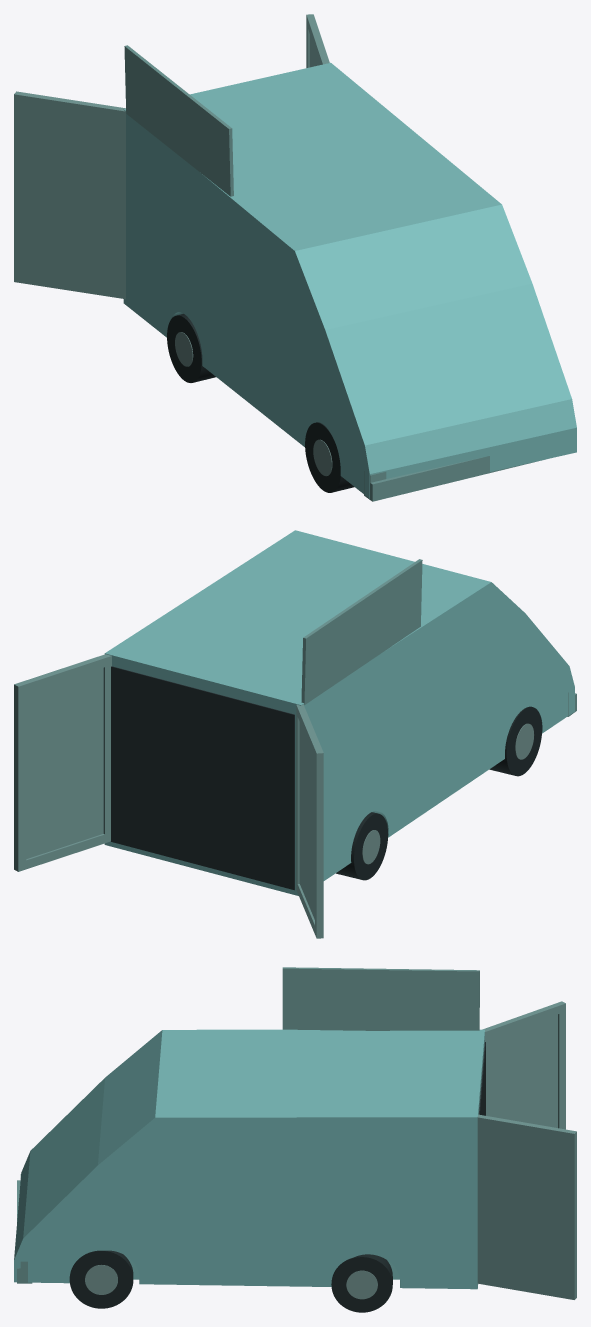
3 views of the same model, one above another, from view 1: azimuth 30°, elevation 25°; view 2: azimuth 150°, elevation 25°; view 3: azimuth 270°, elevation 25° (orthographic). The views are drawn at different scales.
Parts seen in each view (by area): view 1: van; view 2: van; view 3: van.
Boxes of the visible parts, x1,y1,x2,y2 form: van: (14, 14, 576, 501); van: (14, 530, 576, 938); van: (14, 967, 576, 1312).
Bounding box in the file's own units: 3.89 × 3.49 × 6.97.
